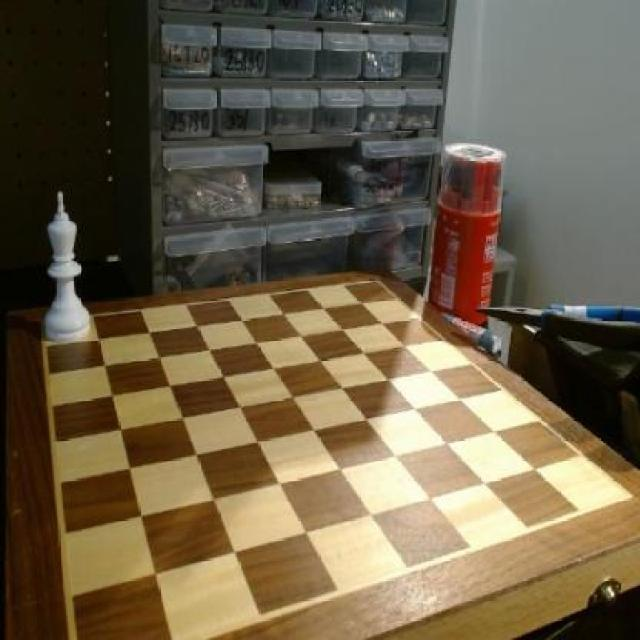white-bishop: (39, 188, 100, 343)
